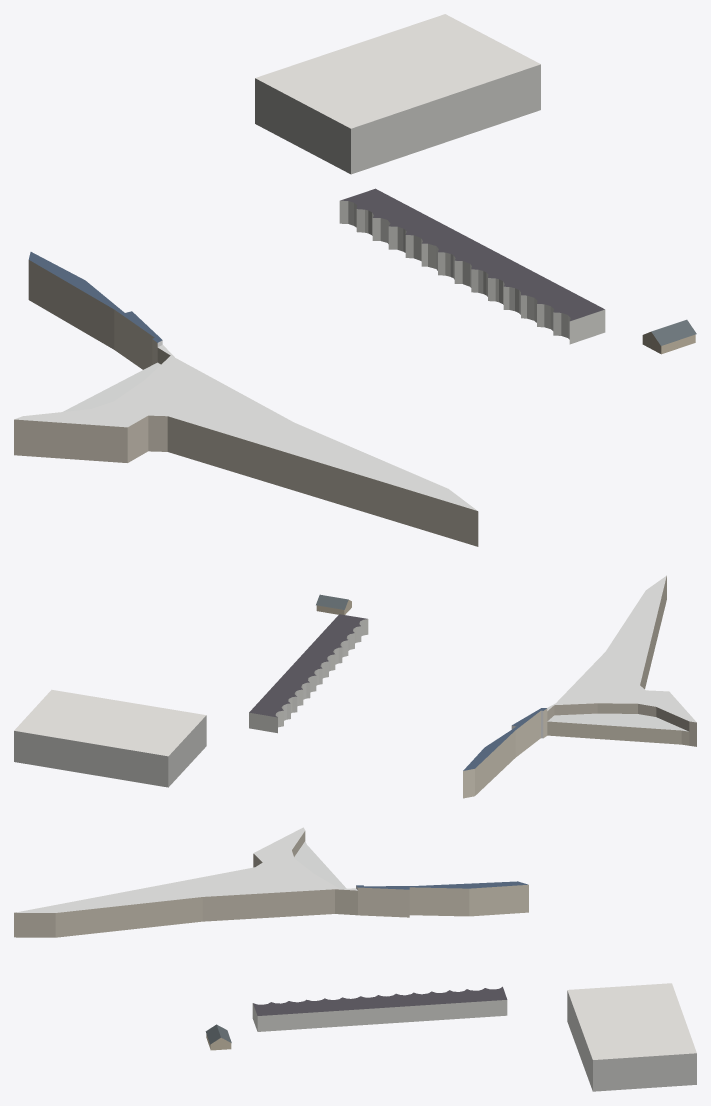
The picture shows the model from 3 angles, top to bottom: view 1: azimuth 30°, elevation 25°; view 2: azimuth 150°, elevation 25°; view 3: azimuth 270°, elevation 25°; orthographic projection. The views are drawn at different scales.
Parts seen in each view (by area): view 1: tuile; view 2: tuile; view 3: tuile.
Part boxes in pixels (<box>): tuile: <box>14,14,696,546</box>; tuile: <box>14,575,696,798</box>; tuile: <box>14,827,696,1091</box>.
Size of the model in its own units: 293 by 21.95 by 341.
